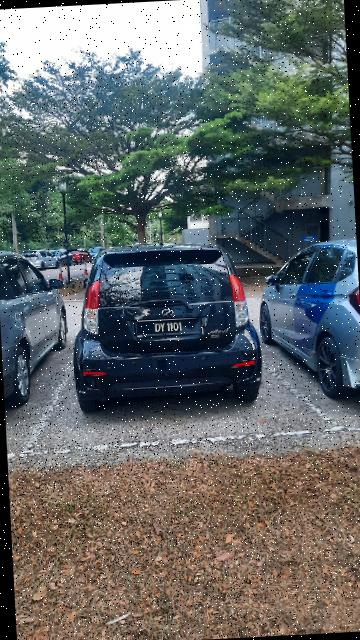License_Plate: (132, 315, 206, 340)
car: (65, 242, 267, 418)
